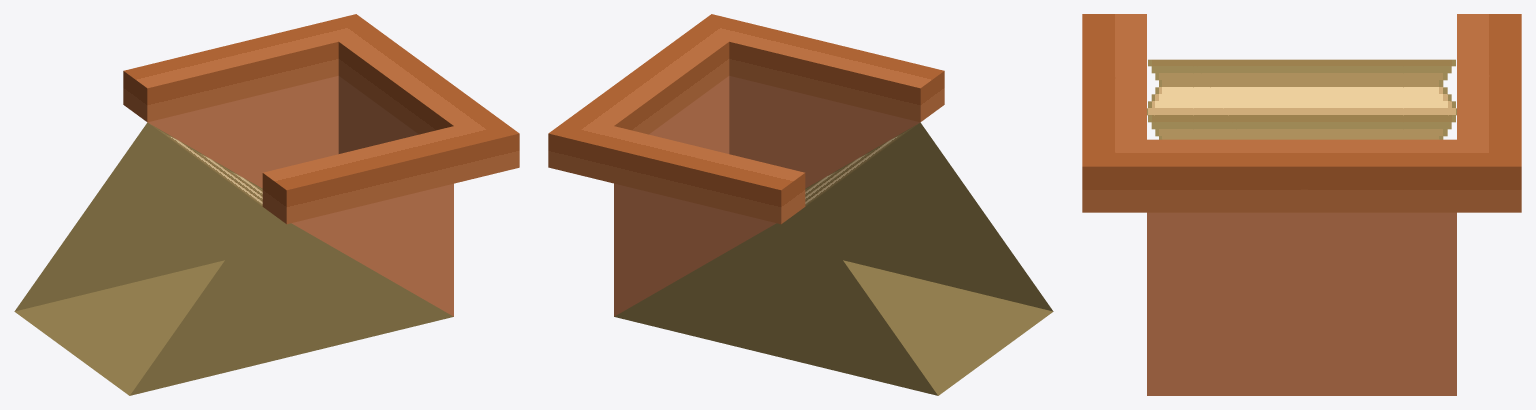
3 views of the same model, side by side, from view 1: azimuth 30°, elevation 25°; view 2: azimuth 150°, elevation 25°; view 3: azimuth 270°, elevation 25° (orthographic). The views are drawn at different scales.
Parts seen in each view (by area): view 1: polygon1, polygon0; view 2: polygon1, polygon0; view 3: polygon1, polygon0.
Boxes of the visible parts, x1,y1,x2,y2 form: polygon1: (123, 14, 519, 316); polygon0: (14, 122, 453, 395); polygon1: (548, 14, 944, 316); polygon0: (614, 122, 1053, 395); polygon1: (1082, 14, 1521, 395); polygon0: (1147, 59, 1456, 139).
Bounding box in the file's own units: 11 × 5.48 × 8.5.
Materials: 2 (2 with a texture image).
